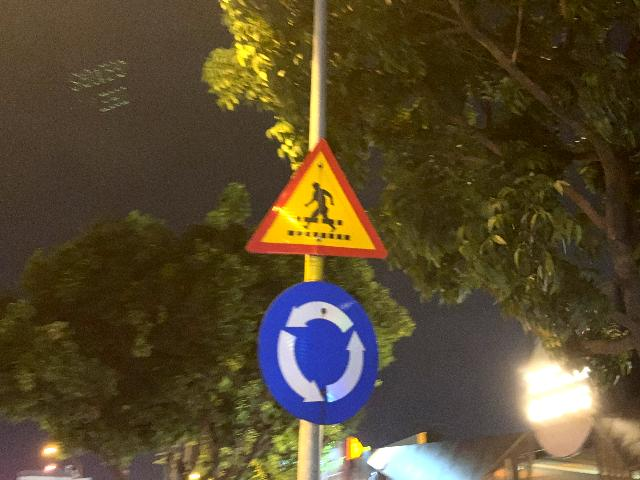duong-nguoi-di-bo-cat-ngang: (246, 137, 387, 259)
noi-giao-nhau-chay-theo-vong-xuyen: (257, 281, 380, 425)
